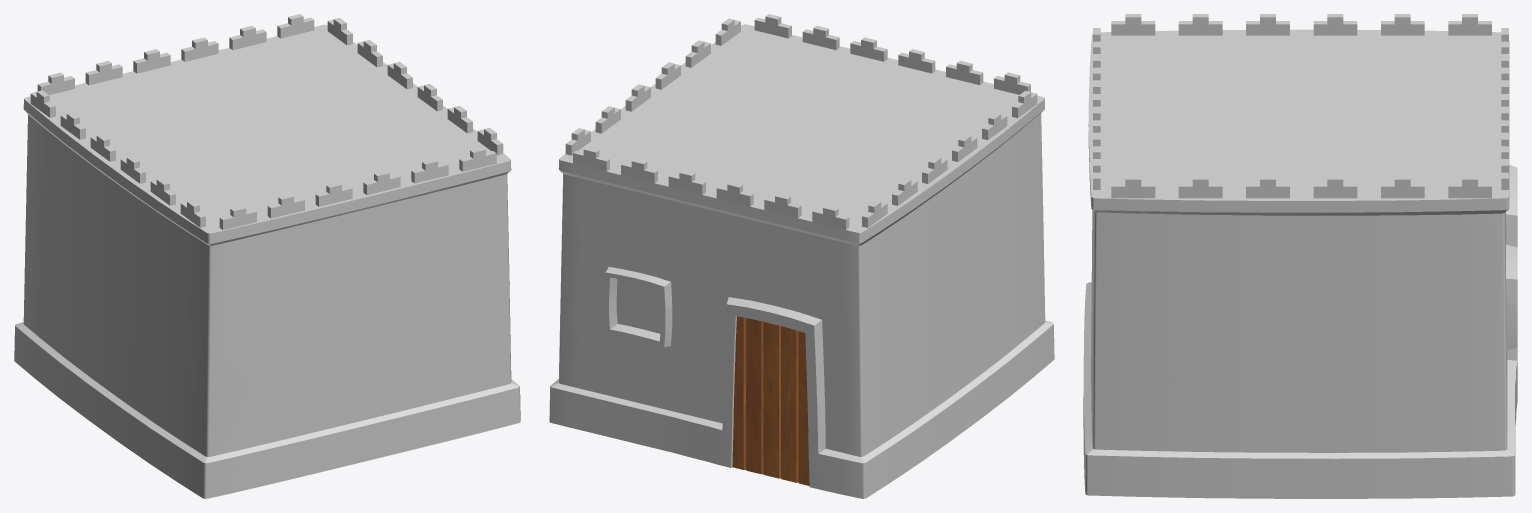
The model's file is Najdi_Base_E01.fbx.
3 views of the same model, side by side, from view 1: azimuth 30°, elevation 25°; view 2: azimuth 150°, elevation 25°; view 3: azimuth 270°, elevation 25° (orthographic). The views are drawn at different scales.
Visible parts, largest first — view 1: Najdi_Base_E01; view 2: Najdi_Base_E01; view 3: Najdi_Base_E01.
Part boxes in pixels (bbox=[...]): Najdi_Base_E01: bbox=[14, 14, 520, 498]; Najdi_Base_E01: bbox=[549, 14, 1054, 498]; Najdi_Base_E01: bbox=[1083, 14, 1517, 498].
Size of the model in its own units: 1692 by 1732 by 1378.
